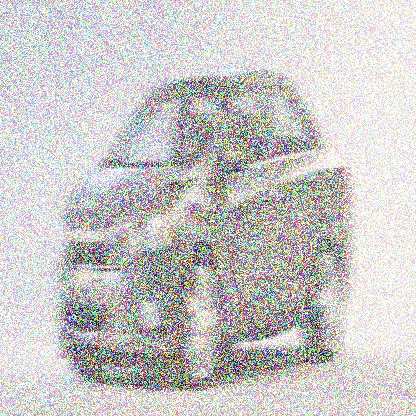Vehicle: (52, 68, 352, 389)
